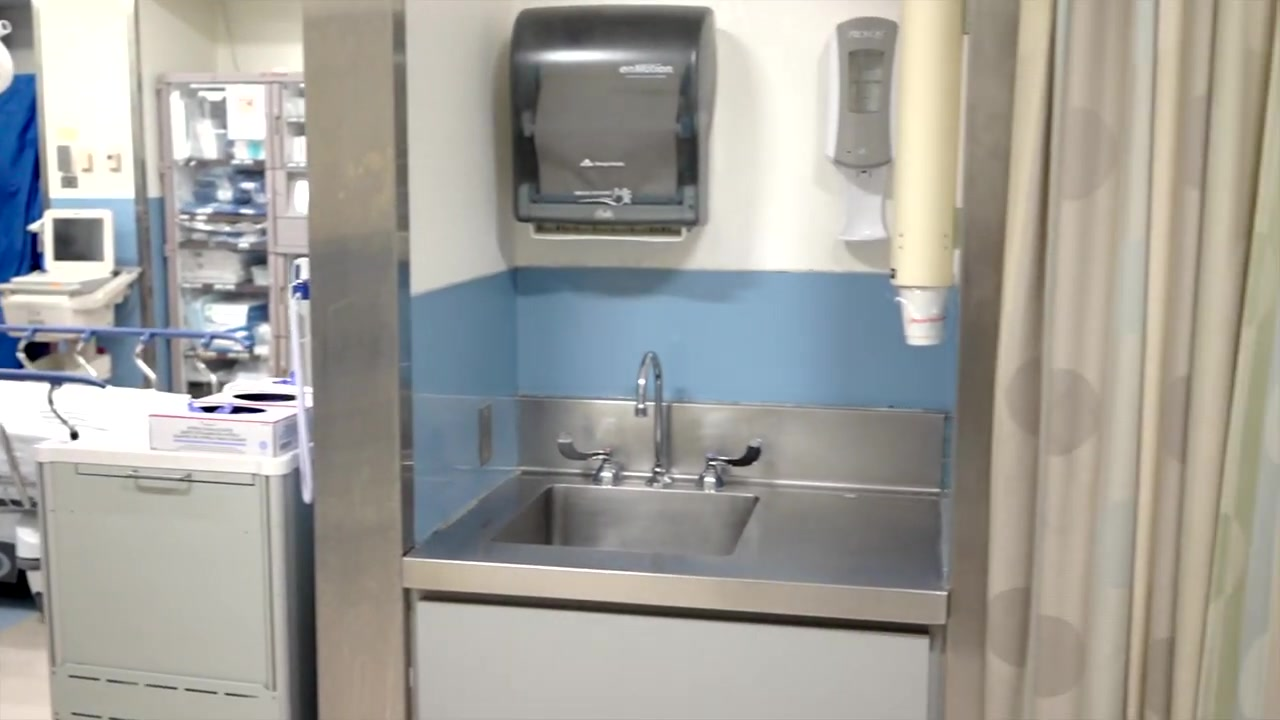bedrail: (1, 326, 254, 397)
bedside_monitor: (35, 211, 111, 270)
cabinet: (152, 71, 305, 395)
curtain: (934, 1, 1280, 720), (1, 70, 54, 362)
dispenser: (504, 1, 707, 272), (824, 1, 899, 244)
faucet: (559, 350, 760, 488)
handle: (120, 461, 202, 491)
hospital_bed: (1, 380, 222, 605)
sink: (487, 466, 748, 553)
table: (37, 424, 312, 720)
